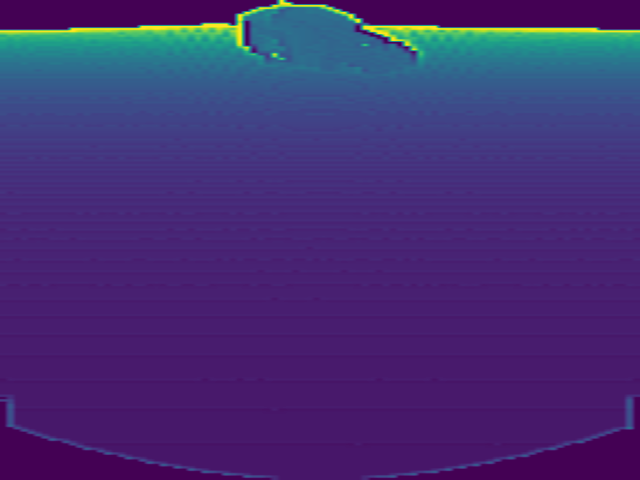car_0027: (237, 4, 422, 77)
